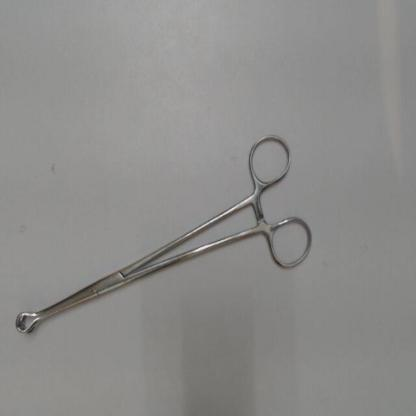8 Babcock Tissue Forceps: (11, 126, 322, 340)
